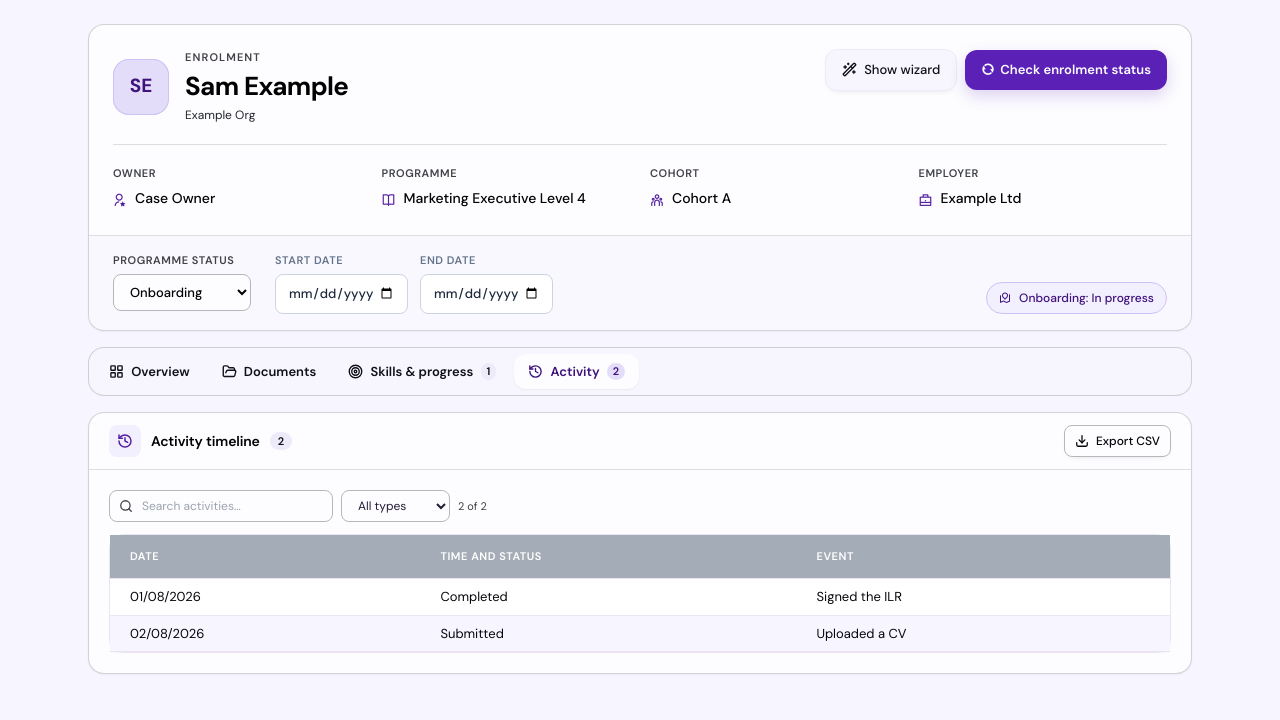
Test: the enrolment board › filters the activity timeline
Expected: the element "Activity timeline" is shown, [88,412,1192,674]
Expected: the text "2 of 2" is shown, [458,498,487,514]
Type "cv" into the field with placeholder "Search activities…". click: (221, 506)
box: [109,490,333,522]
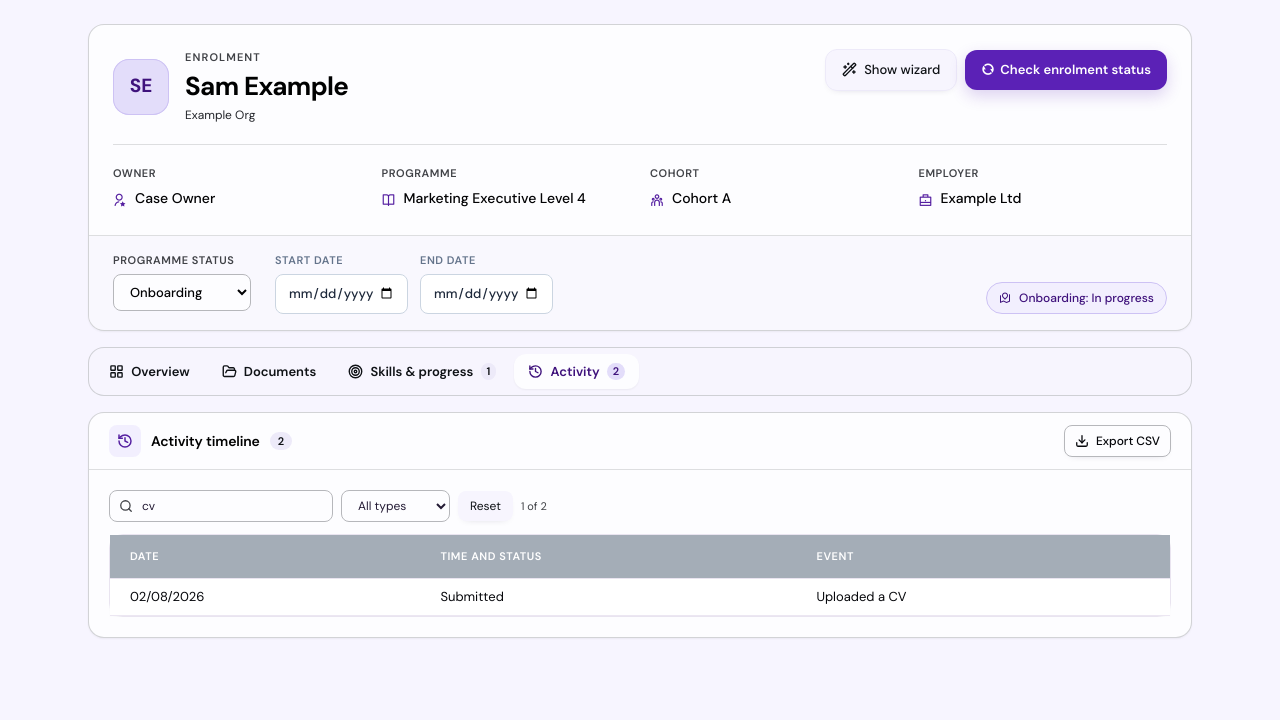
Expected: the text "Uploaded a CV" is shown, [804,579,1170,616]
Now the text "1 of 2" is shown, box [521,498,547,514]
Now the text "Signed the ILR" is gone
